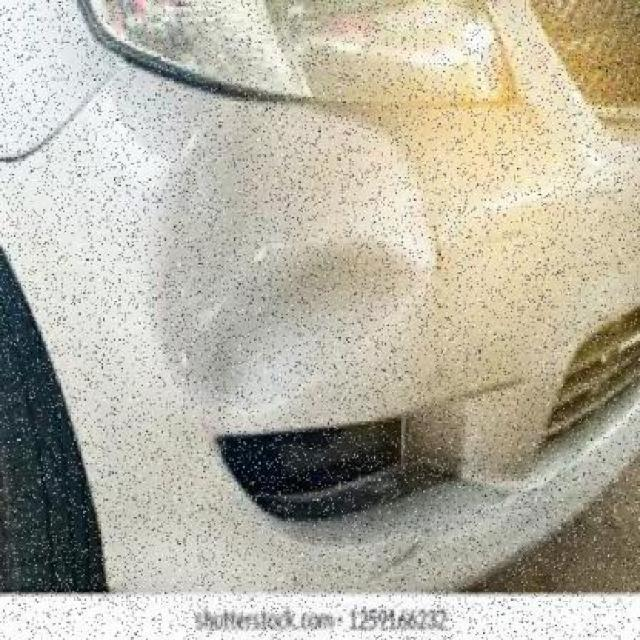front-bumper-dent: (5, 105, 447, 589), (7, 385, 626, 604)
